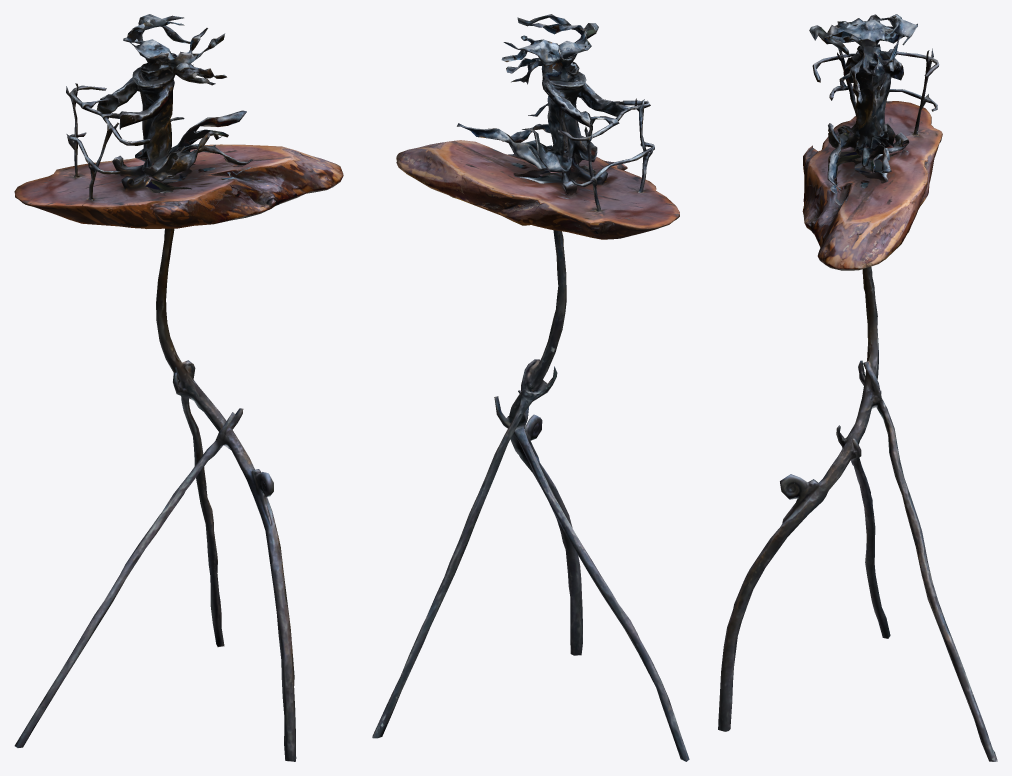
Rendered from boatman.glb.
The picture shows the model from 3 angles, left to right: view 1: azimuth 30°, elevation 25°; view 2: azimuth 150°, elevation 25°; view 3: azimuth 270°, elevation 25°; orthographic projection.
Visible parts, largest first — view 1: model.001; view 2: model.001; view 3: model.001.
Part boxes in pixels (left/top/right/bottom): model.001: left=14, top=14, right=343, bottom=761; model.001: left=372, top=14, right=689, bottom=761; model.001: left=718, top=14, right=997, bottom=761.
Size of the model in its own units: 1.36 by 2.94 by 1.09.
2 materials, 1 textured.
